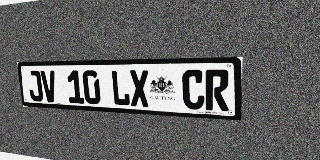0: (82, 70, 101, 105)
1: (66, 70, 84, 104)
C: (182, 70, 204, 110)
J: (26, 70, 44, 102)
L: (110, 70, 130, 106)
R: (205, 69, 229, 111)
V: (40, 70, 58, 102)
X: (129, 70, 150, 107)
